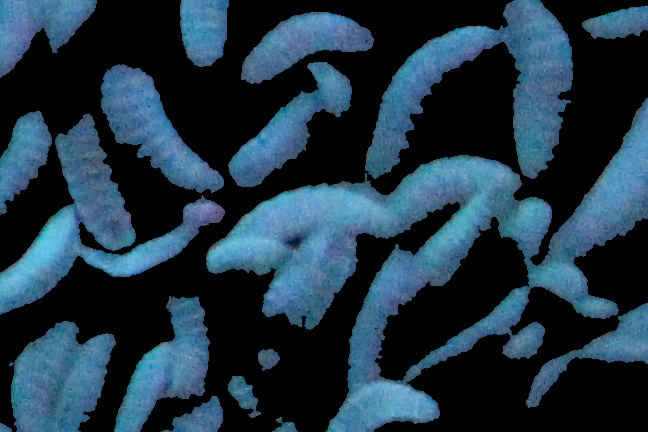larvae: (366, 20, 506, 174), (100, 65, 226, 188), (560, 94, 646, 263), (502, 2, 574, 182), (57, 115, 135, 240), (243, 8, 374, 82), (1, 207, 89, 303), (238, 88, 320, 188), (417, 193, 497, 286), (13, 319, 78, 432), (240, 186, 392, 234), (161, 272, 213, 411), (354, 248, 404, 388), (400, 155, 513, 213), (2, 114, 49, 238), (327, 381, 437, 432), (264, 235, 329, 321), (66, 326, 115, 432), (121, 344, 180, 431), (302, 245, 357, 330), (305, 58, 366, 129), (178, 1, 233, 67), (207, 241, 296, 279), (1, 3, 46, 78)
